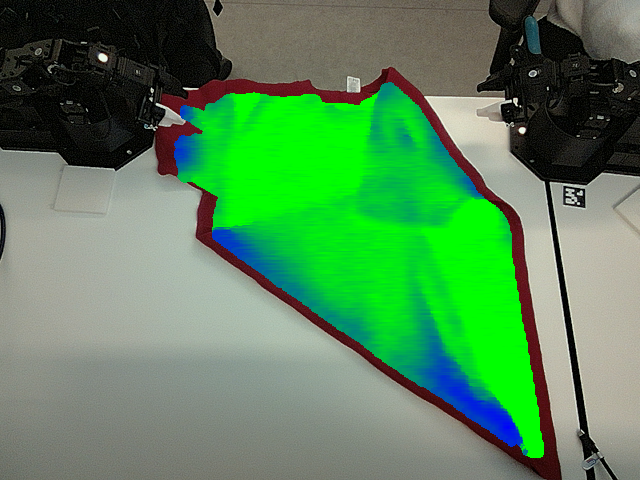V: (345, 178, 411, 229)
